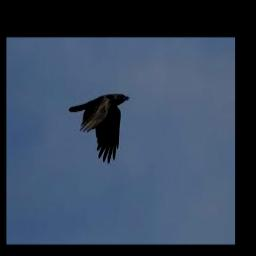Crow: (69, 94, 130, 164)
